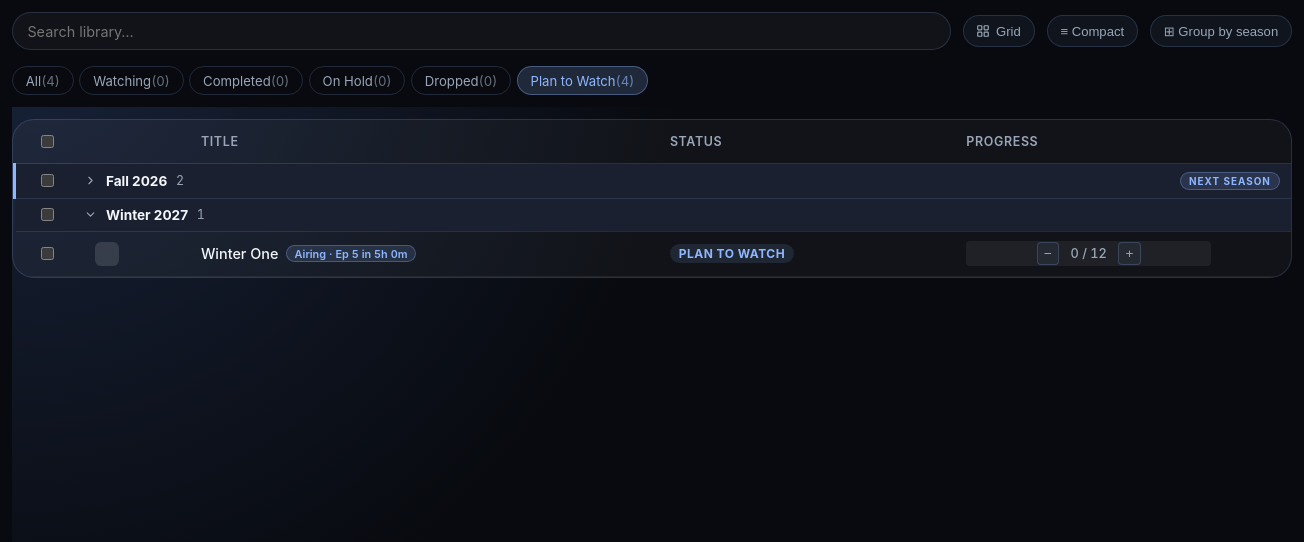
Test: LibraryView selection › selects a collapsed season without expanding it
Click the checkbox named "Select all of Fall 2026".
click(48, 181)  # box [41,174,54,188]
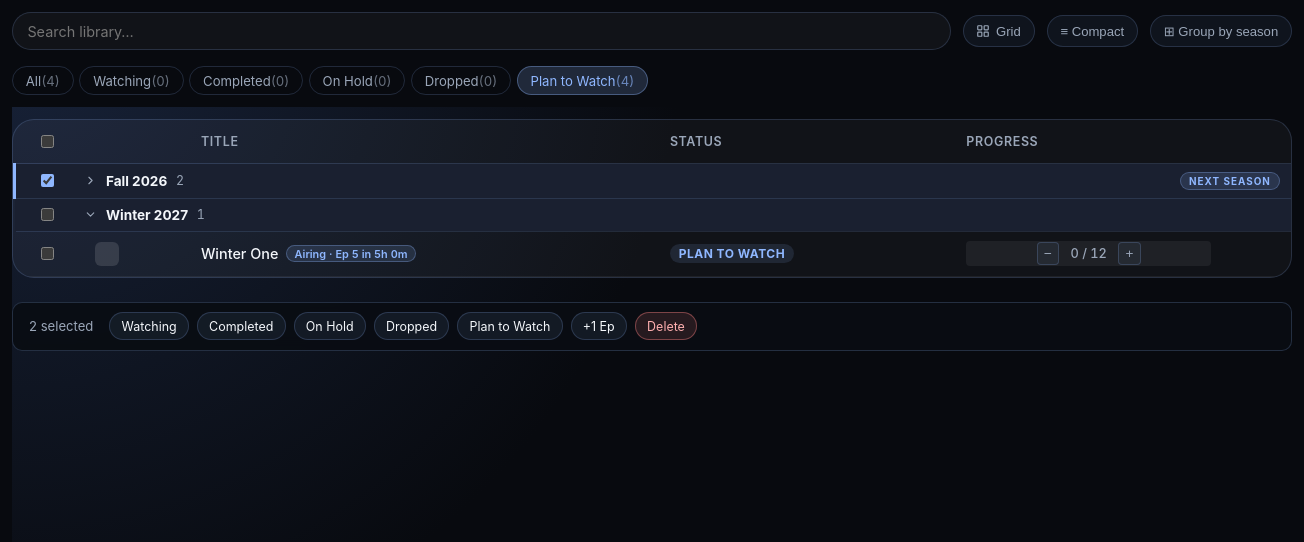
Result: the text with class "batch-count" reads "2 selected" at [29,318,93,334]
Click the checkbox named "Select all of Fall 2026".
click(48, 181)  # box [41,174,54,188]
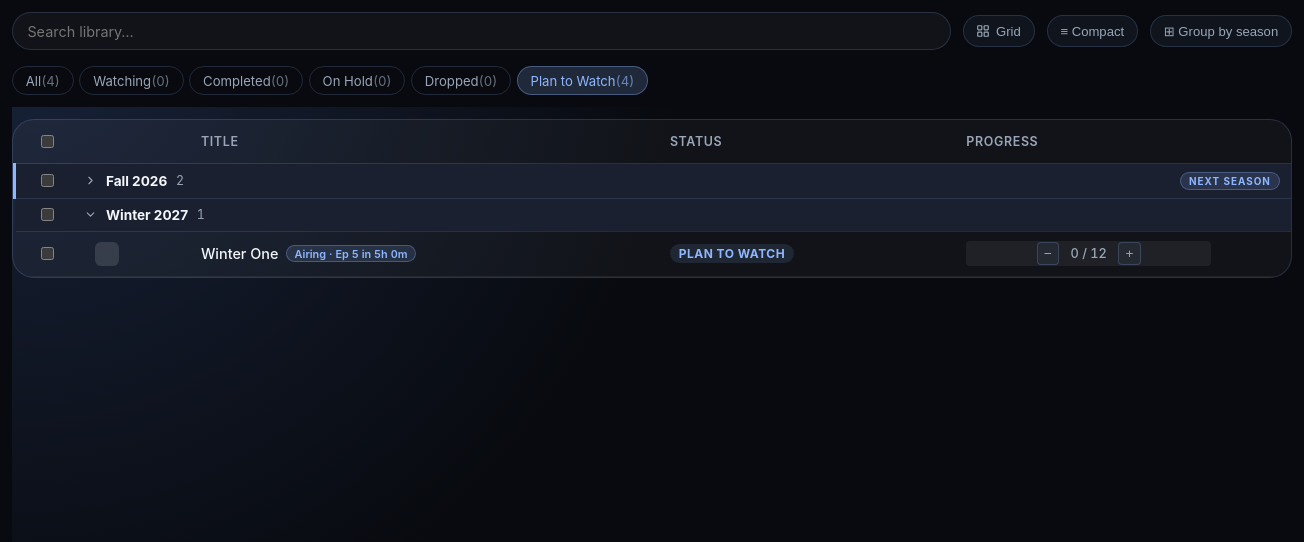
Result: the text with class "batch-count" is gone
